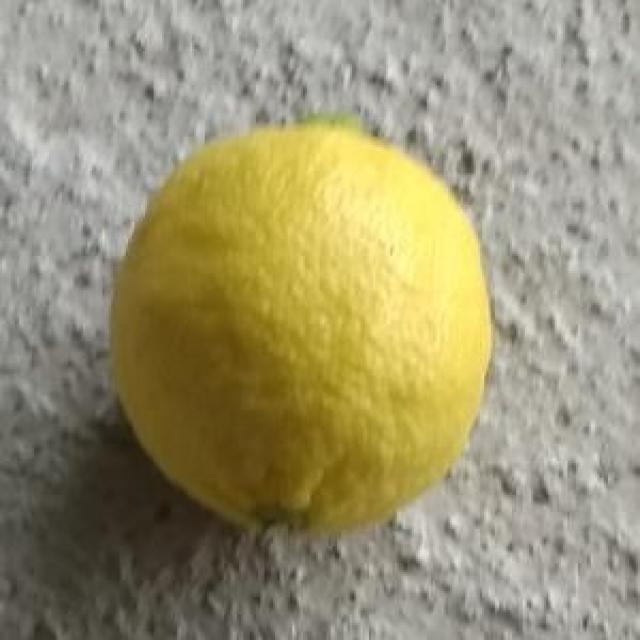lemon: (112, 115, 496, 540)
